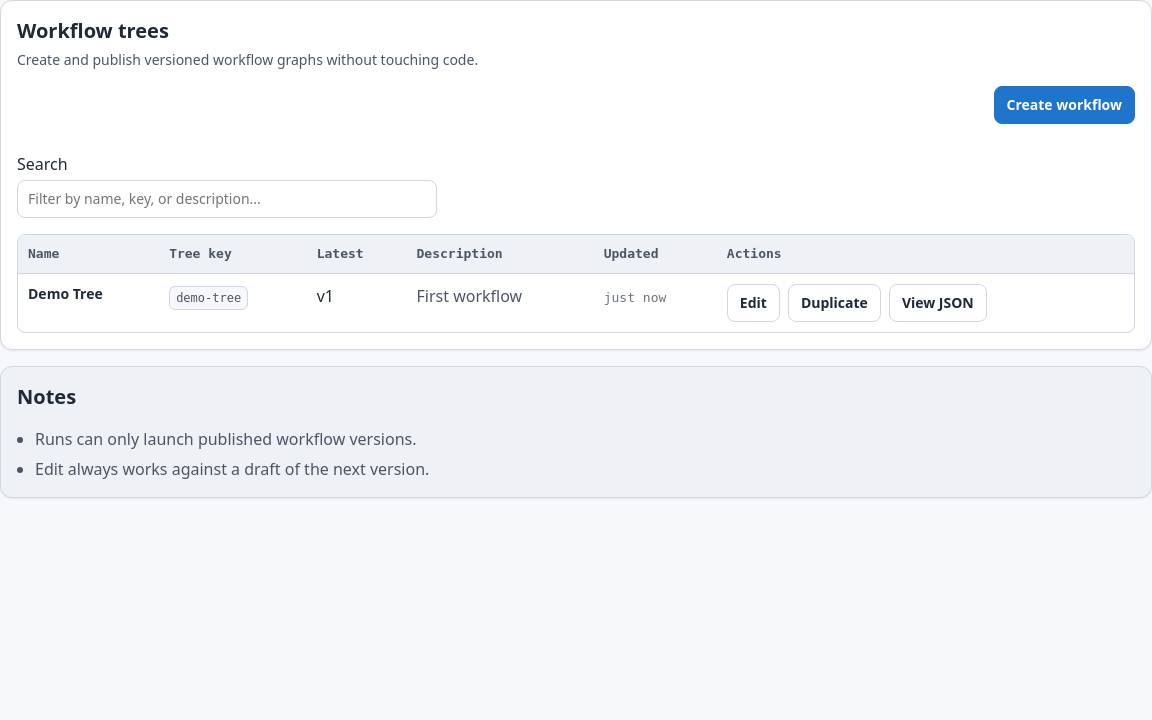
Test: WorkflowsPageContent › requires name and tree key when duplicating
Click the button "Duplicate" at (834, 303), box [788, 284, 881, 322]
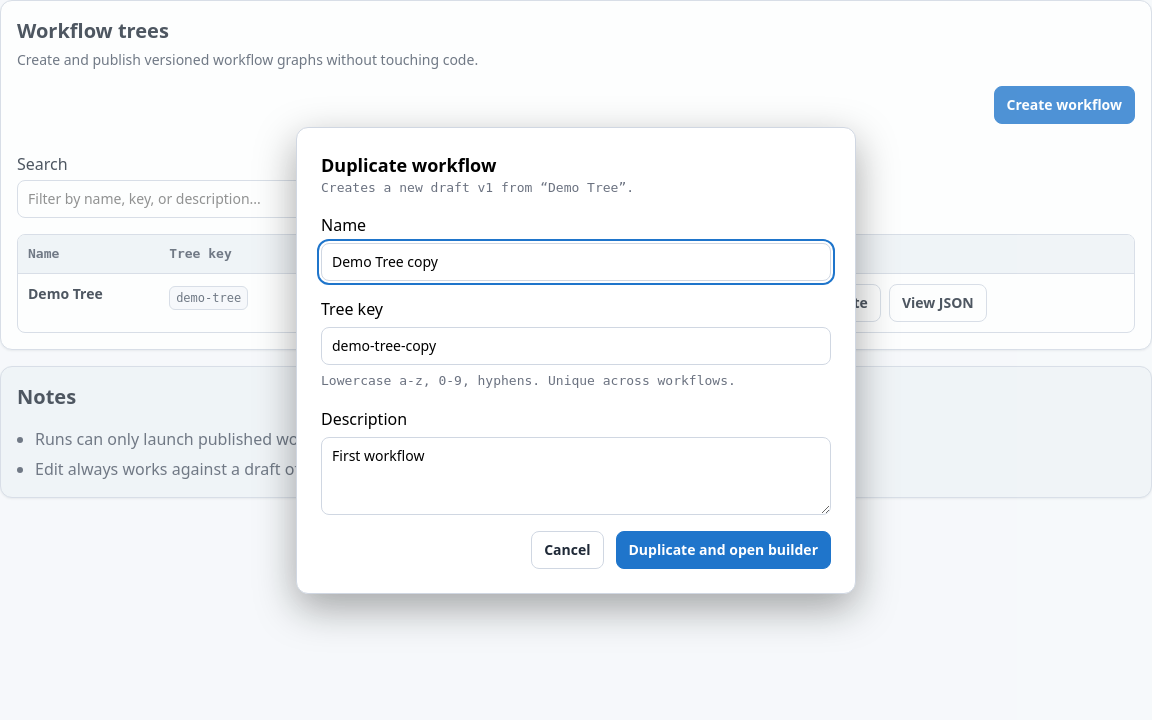
Clear the field labelled "Name" at (576, 262), box [321, 243, 831, 281]
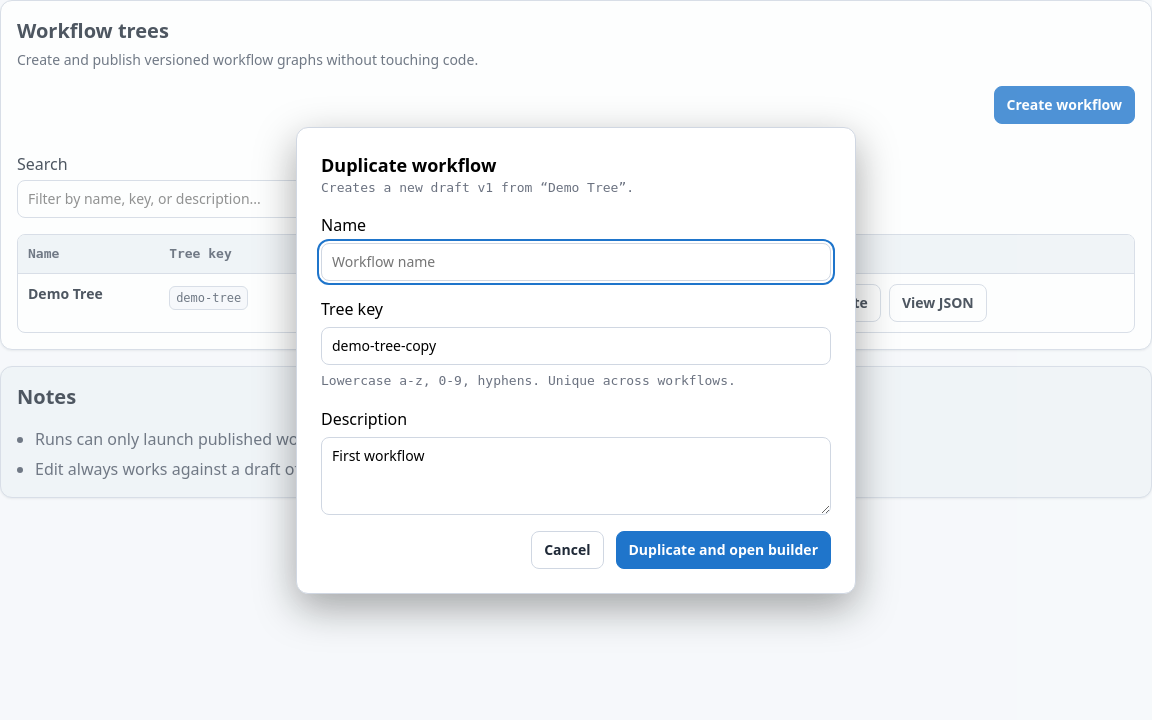
Clear the field labelled "Tree key" at (576, 346), box [321, 327, 831, 365]
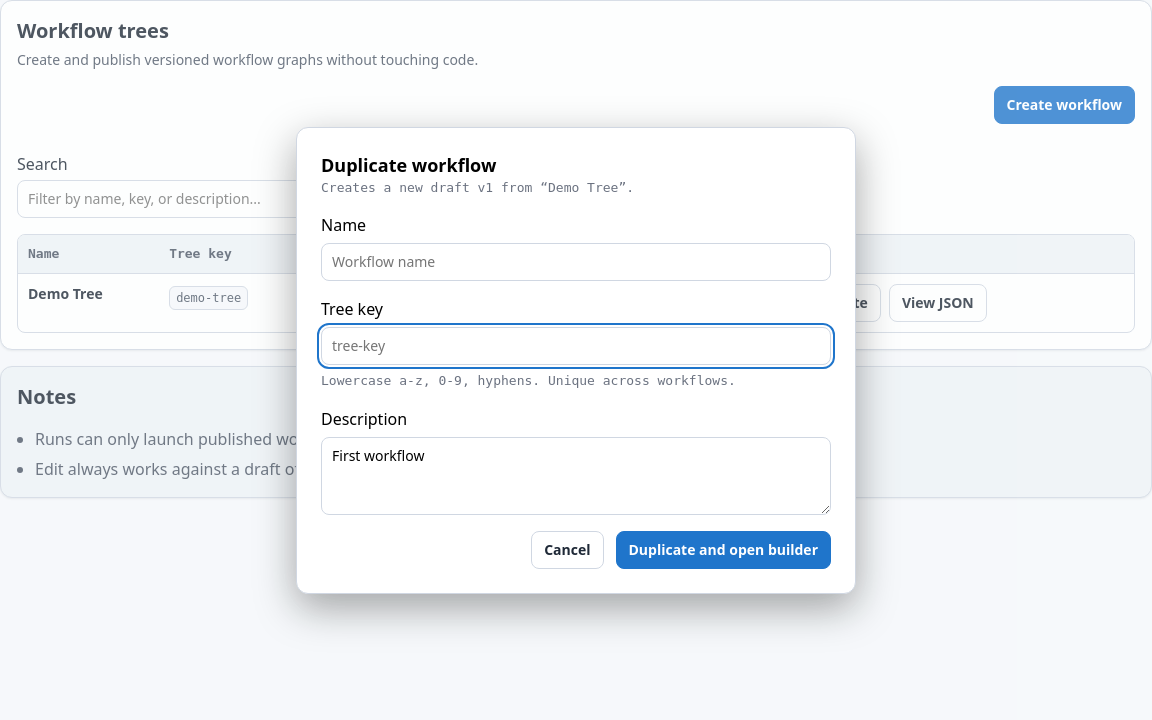
Click the button "Duplicate and open builder" at (723, 550), box [616, 530, 831, 568]
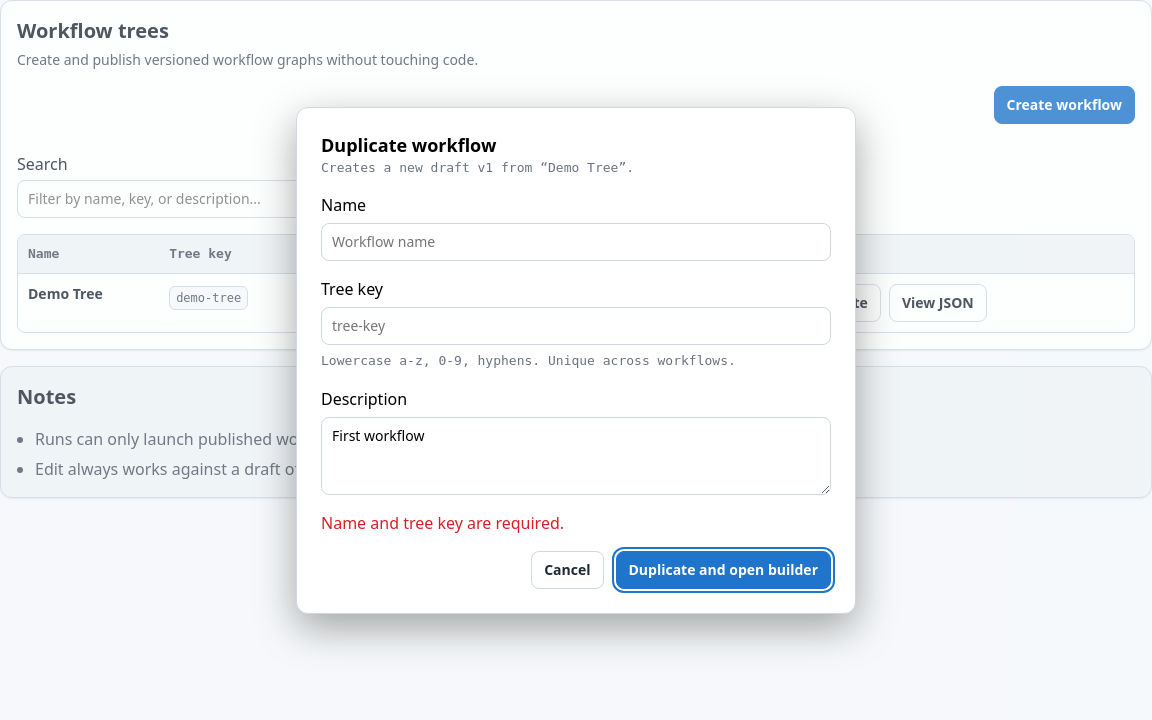
Now the message reads "Name and tree key are required.", box [321, 512, 564, 534]
